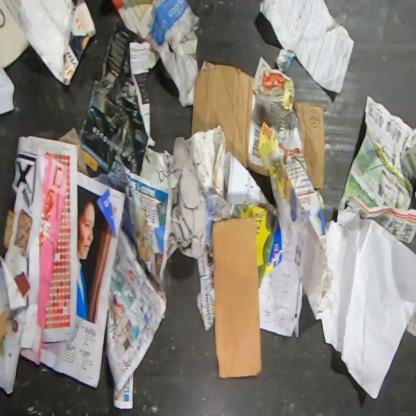cardboard: (190, 59, 326, 190), (211, 216, 262, 380)
